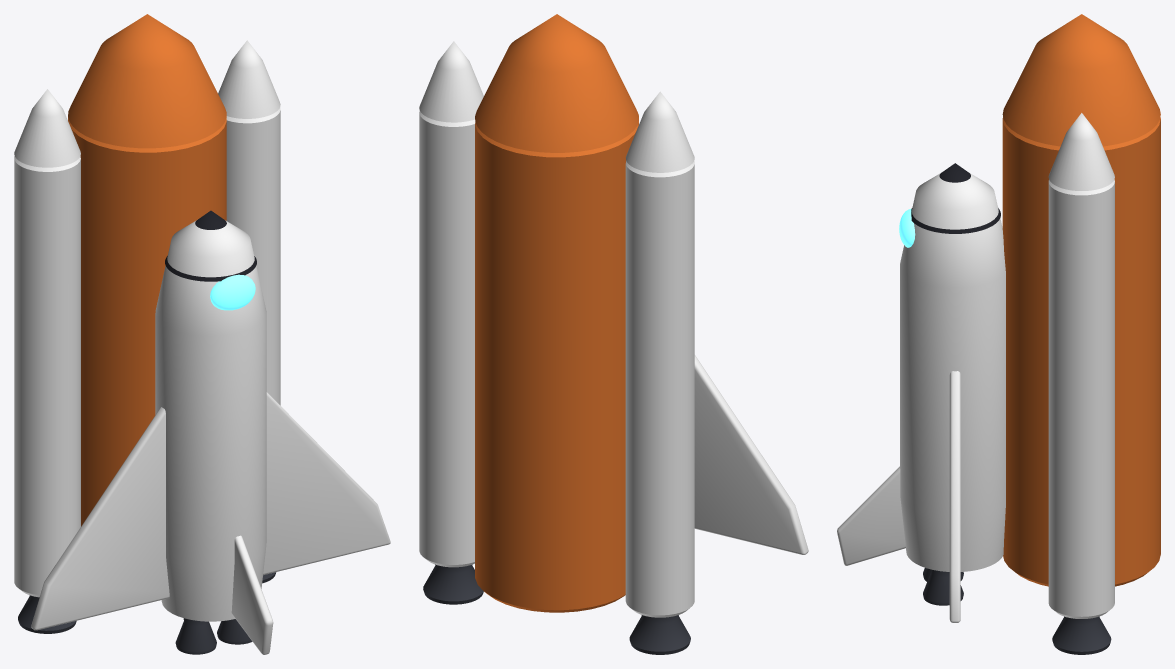
The model's file is Rocket_13_Shuttle.fbx.
3 views of the same model, side by side, from view 1: azimuth 30°, elevation 25°; view 2: azimuth 150°, elevation 25°; view 3: azimuth 270°, elevation 25° (orthographic). The views are drawn at different scales.
Parts seen in each view (by area): view 1: R13_Orbiter, R13_Tank, R13_SRB_2, R13_Wing_2, R13_TankNose, R13_Wing, R13_SRB, R13_SRBNose_2, R13_SRBNose, R13_Tail, R13_CockpitGlass, R13_Nozzle_3 (+3 smaller); view 2: R13_Tank, R13_SRB_2, R13_SRB, R13_TankNose, R13_Wing_2, R13_SRBNose_2, R13_SRBNose, R13_Nozzle_2, R13_Nozzle; view 3: R13_Tank, R13_Orbiter, R13_SRB, R13_TankNose, R13_Tail, R13_SRBNose, R13_Wing, R13_Nozzle, R13_OrbiterNose, R13_Nozzle_4, R13_CockpitGlass.
Boxes of the visible parts, x1=… form: R13_Orbiter: x1=155, y1=220, x2=266, y2=621; R13_Tank: x1=68, y1=117, x2=226, y2=526; R13_SRB_2: x1=14, y1=156, x2=80, y2=597; R13_Wing_2: x1=31, y1=407, x2=169, y2=630; R13_TankNose: x1=68, y1=14, x2=226, y2=148; R13_Wing: x1=263, y1=392, x2=390, y2=575; R13_SRB: x1=226, y1=107, x2=280, y2=405; R13_SRBNose_2: x1=14, y1=89, x2=80, y2=167; R13_SRBNose: x1=218, y1=40, x2=280, y2=118; R13_Tail: x1=231, y1=535, x2=273, y2=654; R13_CockpitGlass: x1=210, y1=274, x2=255, y2=310; R13_Nozzle_3: x1=175, y1=618, x2=216, y2=654; R13_Tank: x1=475, y1=121, x2=638, y2=612; R13_SRB_2: x1=625, y1=161, x2=694, y2=617; R13_SRB: x1=419, y1=110, x2=475, y2=567; R13_TankNose: x1=475, y1=14, x2=638, y2=152; R13_Wing_2: x1=694, y1=355, x2=808, y2=554; R13_SRBNose_2: x1=625, y1=91, x2=694, y2=172; R13_SRBNose: x1=419, y1=41, x2=483, y2=122; R13_Nozzle_2: x1=629, y1=615, x2=690, y2=654; R13_Nozzle: x1=423, y1=564, x2=483, y2=604; R13_Tank: x1=1002, y1=117, x2=1160, y2=586; R13_Orbiter: x1=900, y1=173, x2=1005, y2=571; R13_SRB: x1=1048, y1=179, x2=1114, y2=618; R13_TankNose: x1=1002, y1=14, x2=1160, y2=146; R13_Tail: x1=837, y1=466, x2=905, y2=565; R13_SRBNose: x1=1048, y1=113, x2=1114, y2=190; R13_Wing: x1=949, y1=371, x2=960, y2=622; R13_Nozzle: x1=1052, y1=616, x2=1111, y2=654; R13_OrbiterNose: x1=911, y1=163, x2=1000, y2=233; R13_Nozzle_4: x1=923, y1=569, x2=963, y2=605; R13_CockpitGlass: x1=899, y1=208, x2=915, y2=247.
Bounding box in the file's own units: 5.18 × 8.1 × 4.09.
